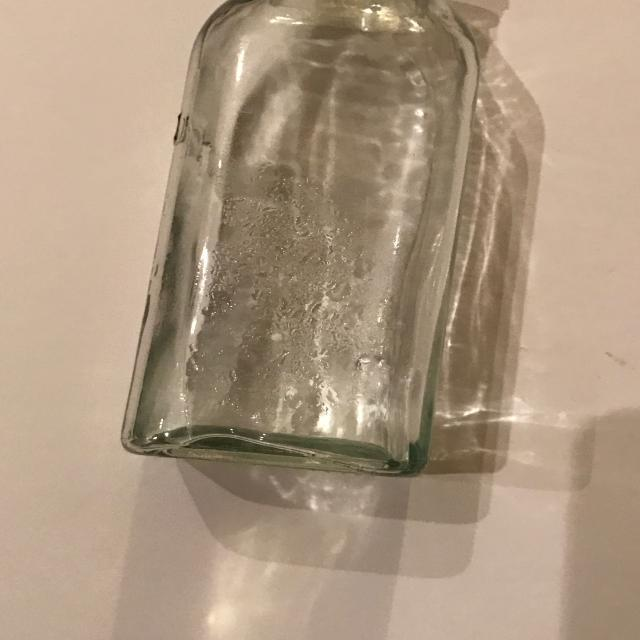glass: (114, 1, 482, 483)
